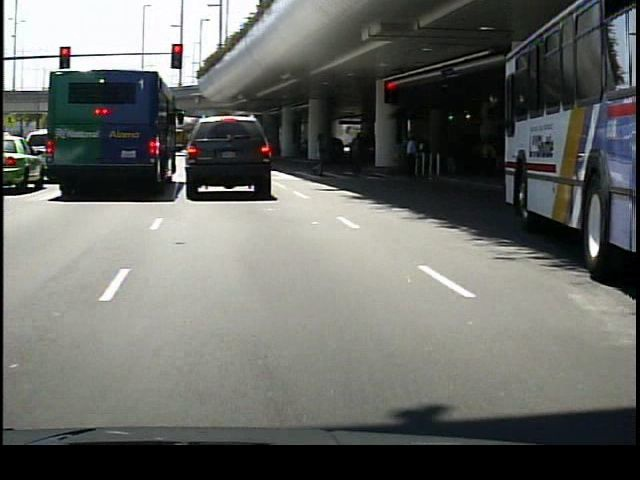person: (350, 128, 372, 184), (310, 128, 334, 177), (401, 132, 421, 180)
